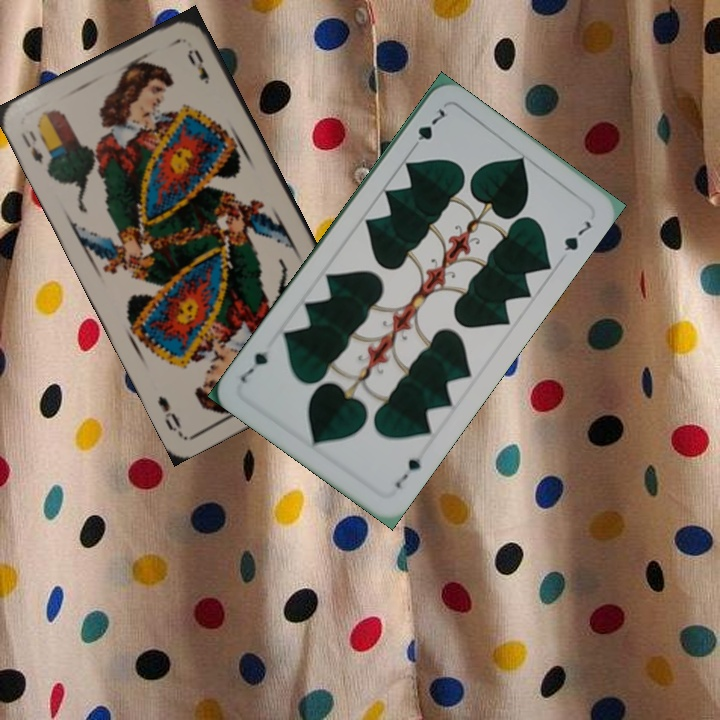EO: (17, 126, 47, 168)
G7: (406, 104, 450, 155), (391, 453, 424, 491)
